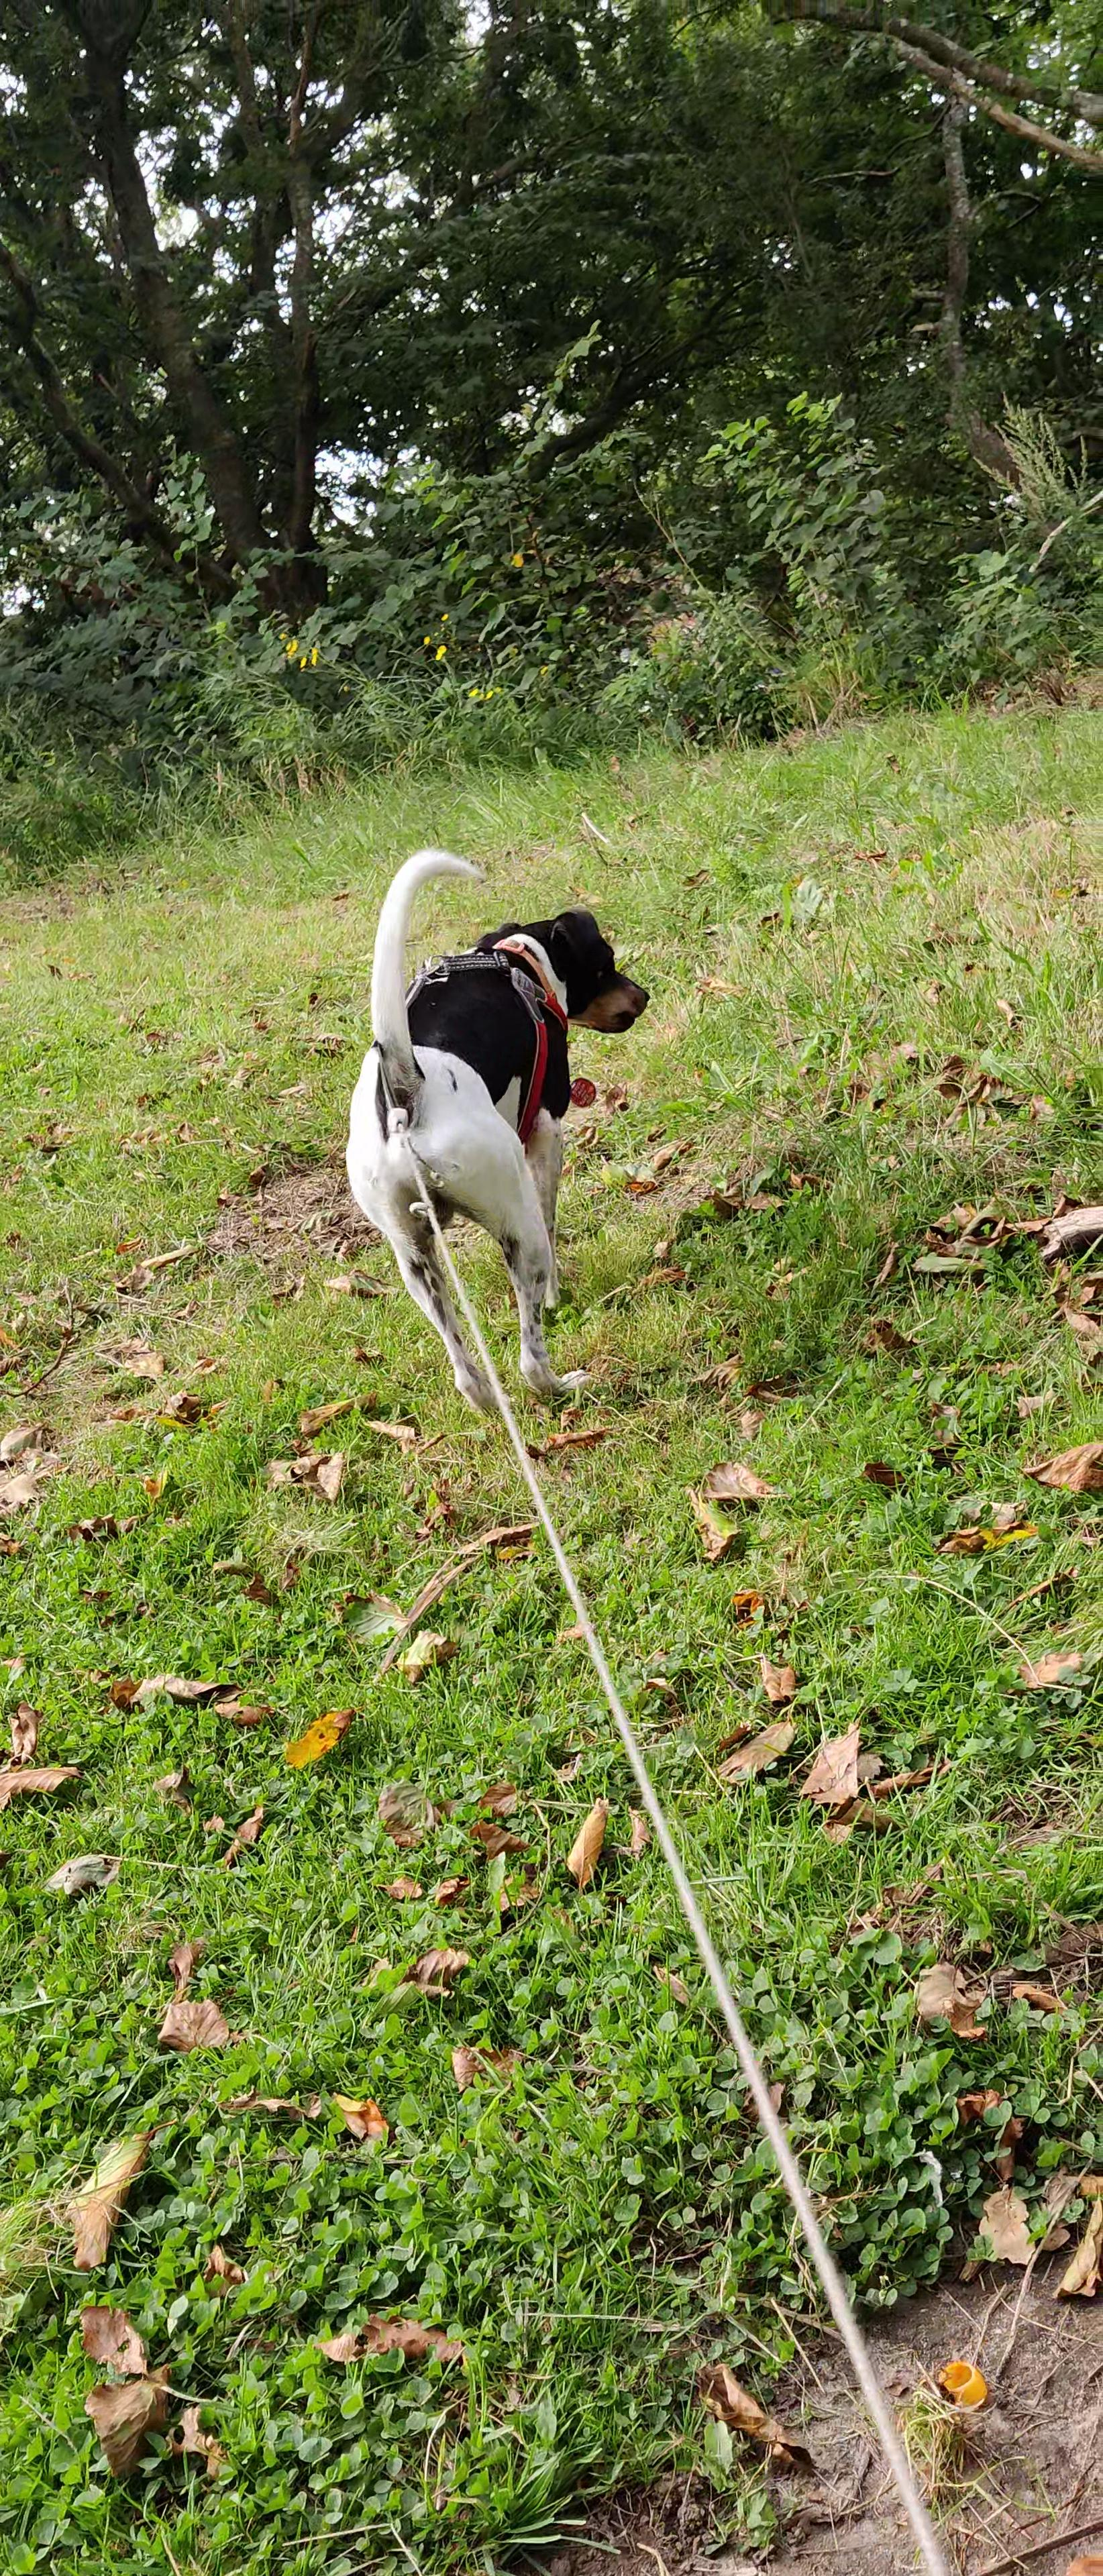Dog: (332, 823, 677, 1444)
